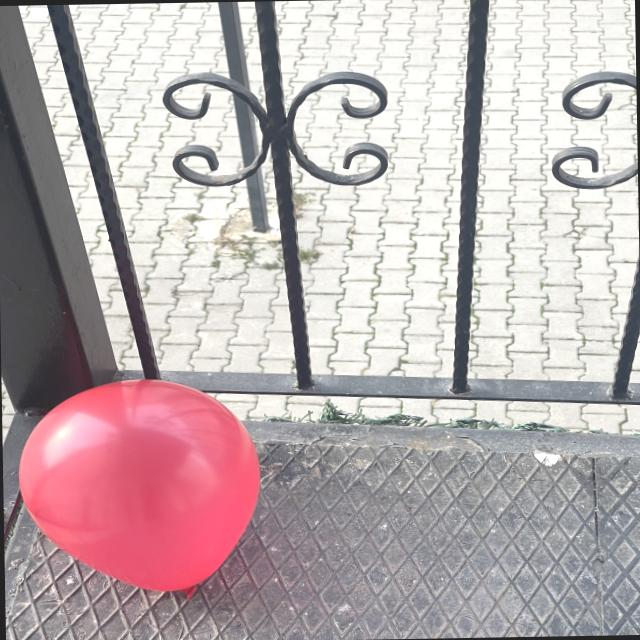balloon: (19, 379, 259, 590)
